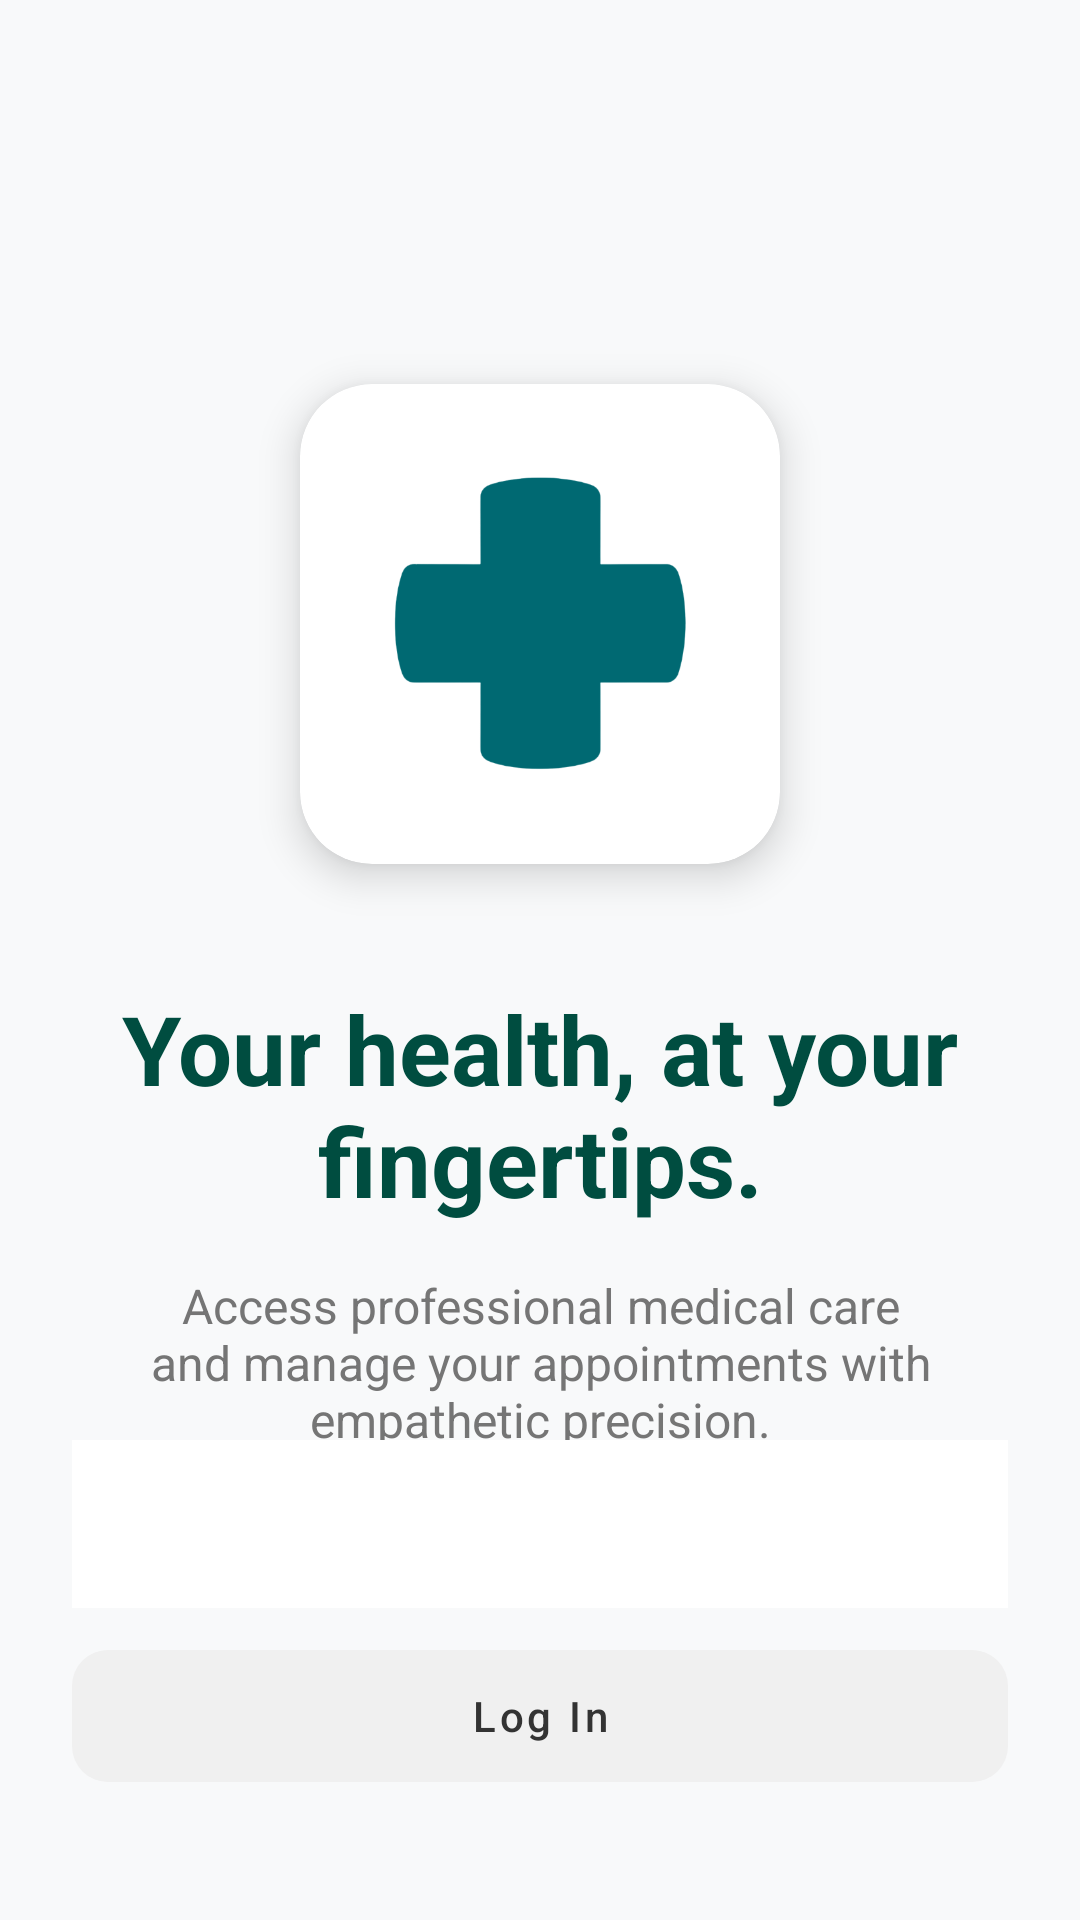

Locate icon controls on the screen. Image size 1080x1920, boxes as (x1, y1, x2, y2).
redcross: (395, 477, 686, 769)
